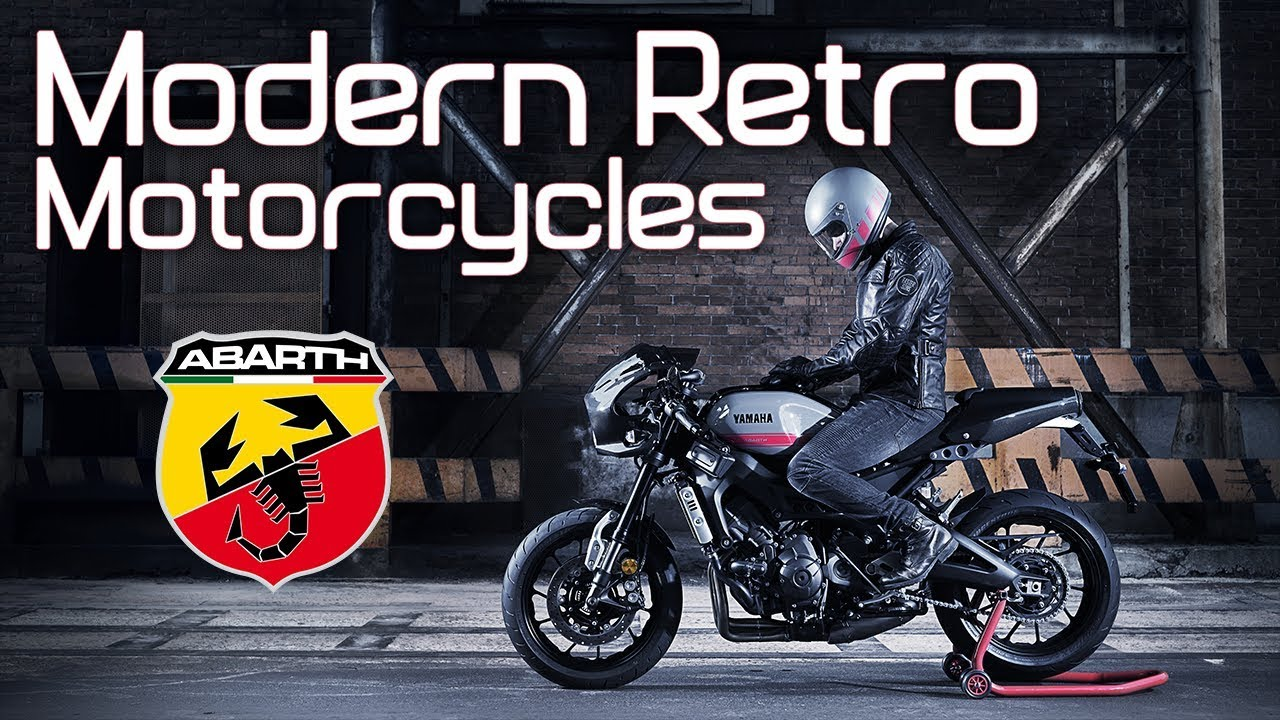with_helmet: (804, 165, 891, 266)
